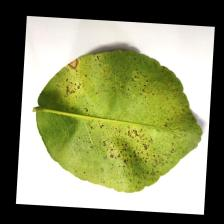canker: (77, 86, 164, 176)
